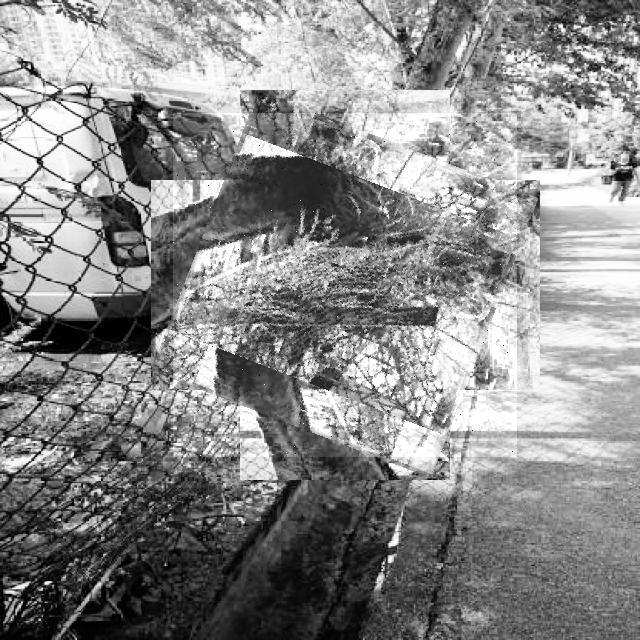anomaly-fence: (173, 113, 517, 457)
